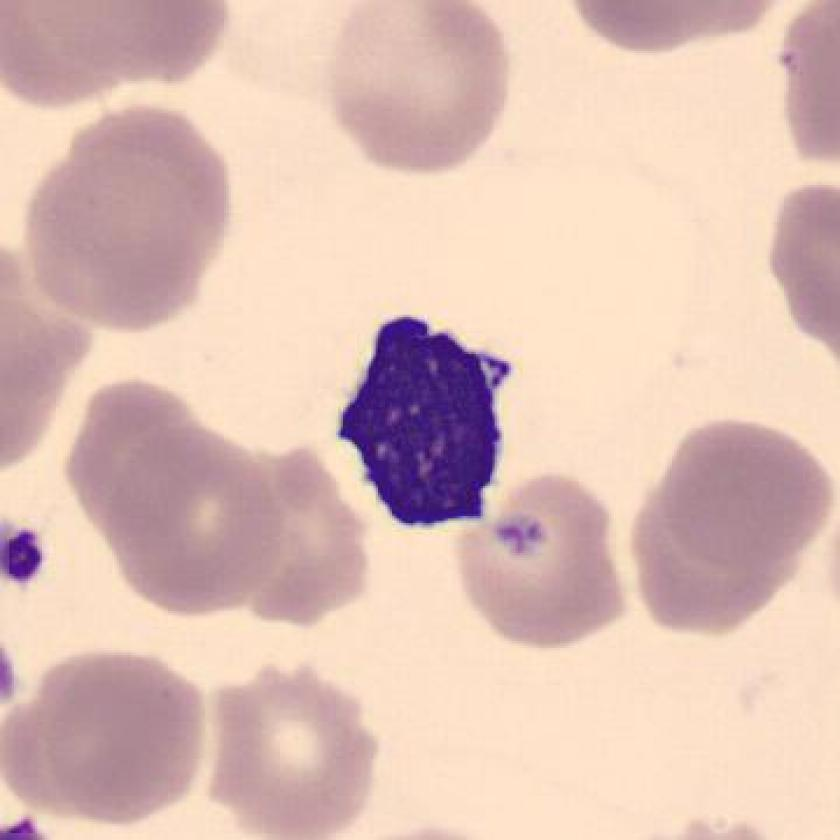lymphocyte: (321, 300, 531, 550)
